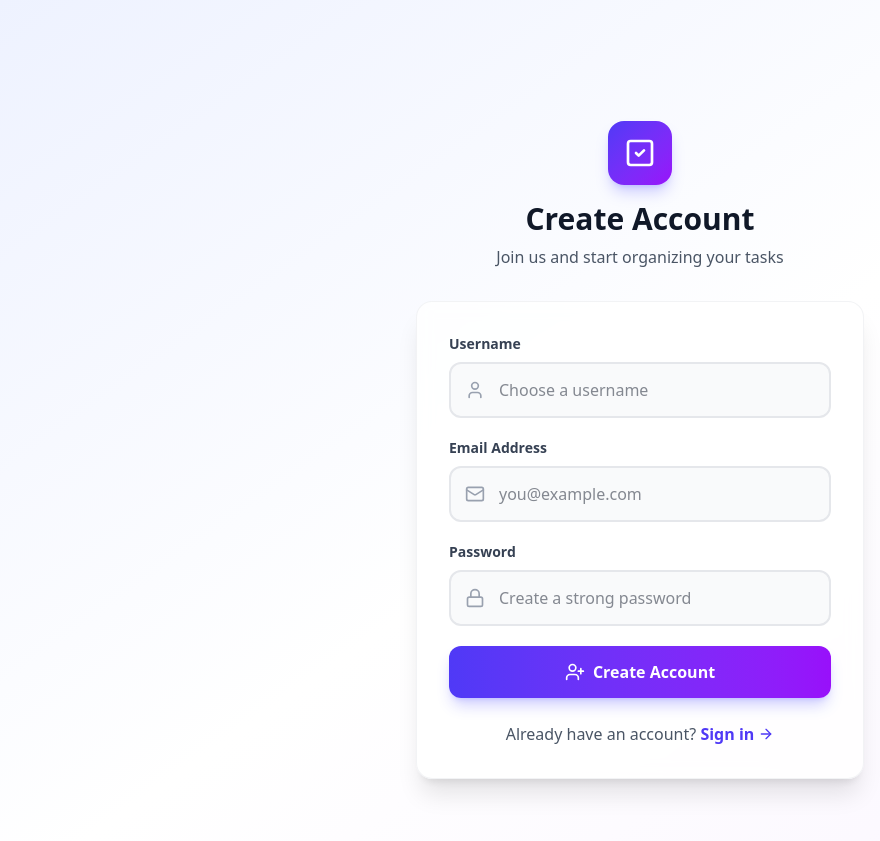
it: SignUp Component › should show validation error for empty username
The width and height of the screenshot is (880, 841).
Click the button "Create Account" at (640, 672), box [449, 646, 831, 698]
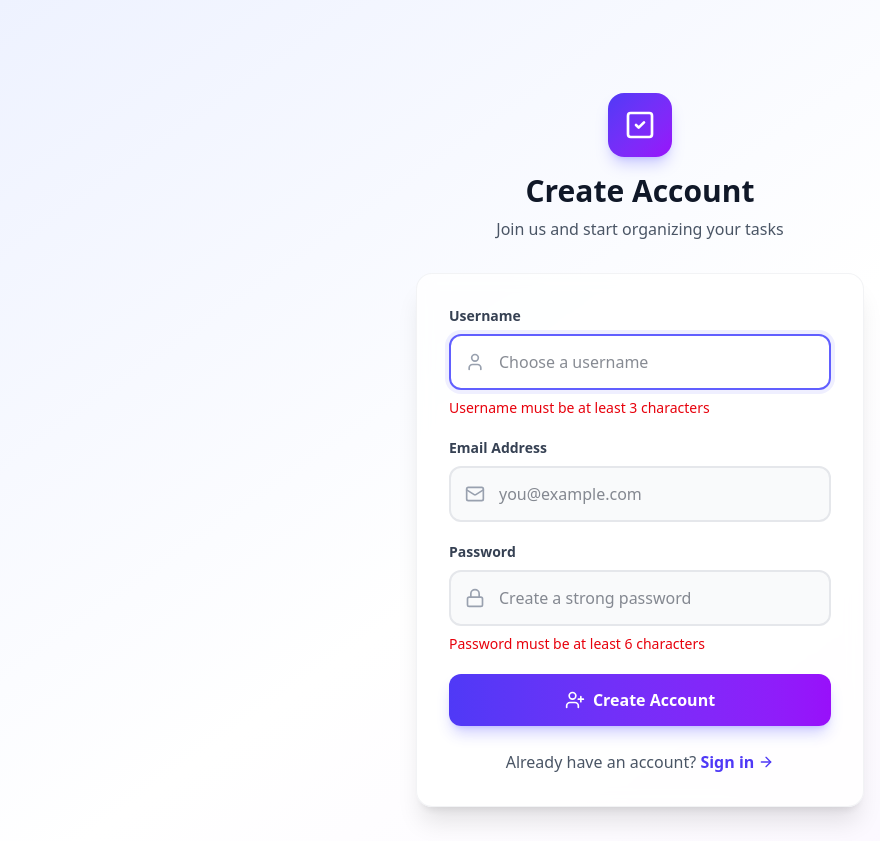
expect the text "Username must be at least 3 characters" is shown: met, box [449, 398, 710, 417]
